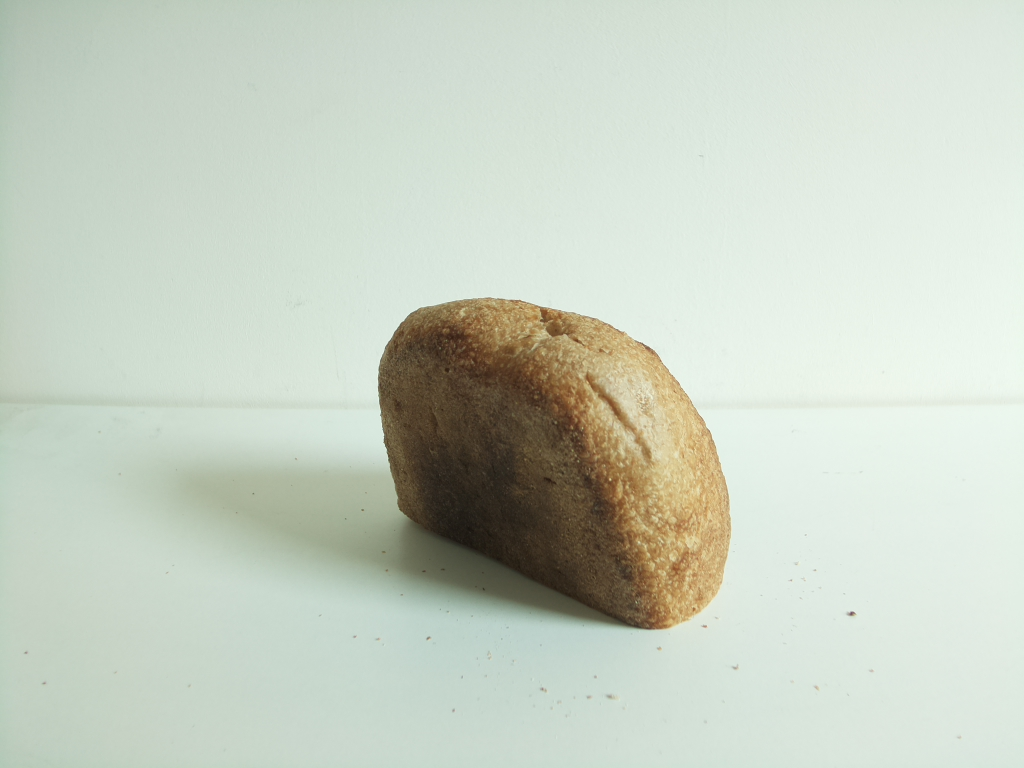bread: (382, 296, 733, 631)
